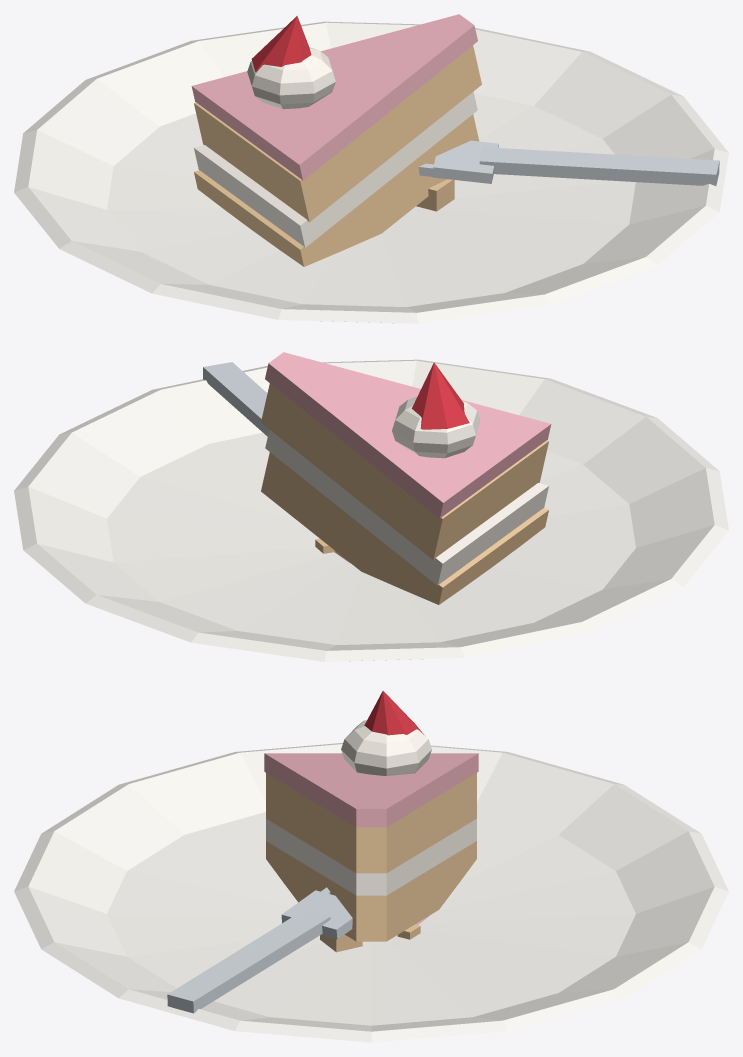
Rendered from cake-lite.glb.
3 views of the same model, one above another, from view 1: azimuth 30°, elevation 25°; view 2: azimuth 150°, elevation 25°; view 3: azimuth 270°, elevation 25° (orthographic).
Parts seen in each view (by area): view 1: VesselMesh, CakeFullFrosting, CakeFullSponge, CakeFullCream, CakeDessertFork, CakePartialSponge, CakePartialCream, CakeFullBerry; view 2: VesselMesh, CakeFullFrosting, CakeFullSponge, CakeFullCream, CakePartialSponge, CakeDessertFork, CakeFullBerry, CakePartialCream; view 3: VesselMesh, CakeFullSponge, CakeFullFrosting, CakeFullCream, CakeDessertFork, CakeFullBerry.
Boxes of the visible parts, x1=… form: VesselMesh: x1=14, y1=21, x2=728, y2=323; CakeFullFrosting: x1=191, y1=14, x2=477, y2=180; CakeFullSponge: x1=194, y1=45, x2=481, y2=266; CakeFullCream: x1=194, y1=47, x2=477, y2=247; CakeDessertFork: x1=418, y1=140, x2=719, y2=185; CakePartialSponge: x1=194, y1=103, x2=454, y2=266; CakePartialCream: x1=194, y1=145, x2=306, y2=247; CakeFullBerry: x1=251, y1=16, x2=311, y2=71; VesselMesh: x1=14, y1=359, x2=728, y2=661; CakeFullFrosting: x1=265, y1=352, x2=551, y2=518; CakeFullSponge: x1=261, y1=383, x2=548, y2=604; CakeFullCream: x1=265, y1=397, x2=548, y2=585; CakePartialSponge: x1=433, y1=441, x2=548, y2=604; CakeDessertFork: x1=203, y1=362, x2=269, y2=436; CakeFullBerry: x1=412, y1=362, x2=469, y2=429; CakePartialCream: x1=436, y1=483, x2=548, y2=585; VesselMesh: x1=14, y1=743, x2=728, y2=1042; CakeFullSponge: x1=266, y1=773, x2=476, y2=941; CakeFullFrosting: x1=264, y1=753, x2=478, y2=827; CakeFullCream: x1=266, y1=720, x2=476, y2=895; CakeDessertFork: x1=167, y1=887, x2=352, y2=1013; CakeFullBerry: x1=364, y1=691, x2=423, y2=735.
Bounding box in the file's own units: 0.19 × 0.0659 × 0.19.
